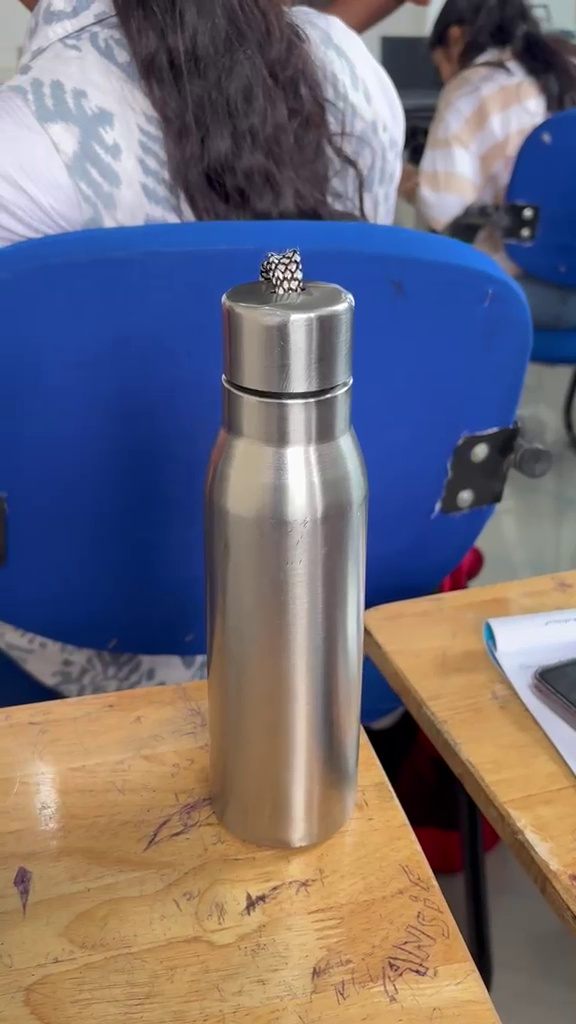Bottle: (202, 242, 378, 875)
